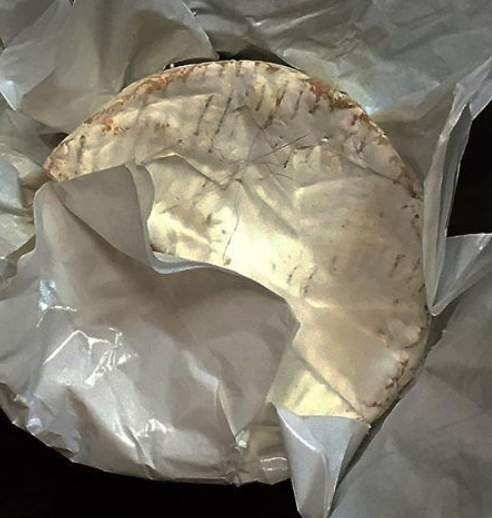camembert: (41, 57, 432, 429)
